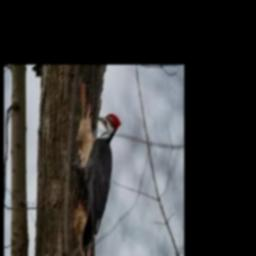Woodpecker: (75, 113, 121, 256)
